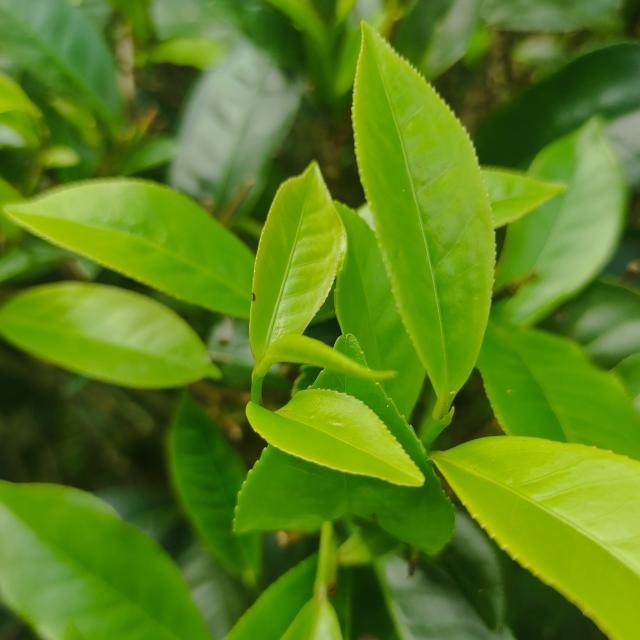unopened_leaf: (250, 327, 404, 390)
